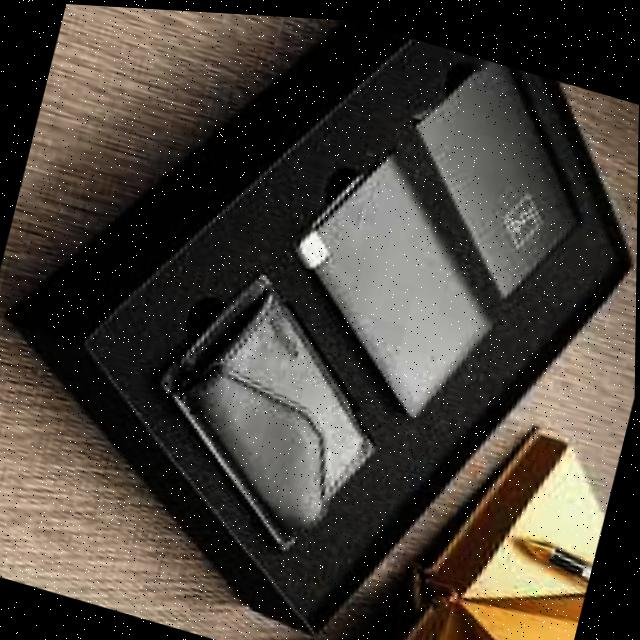cuzdan: (135, 291, 406, 576)
